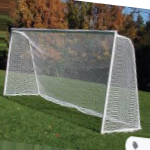goals: (2, 27, 144, 135)
